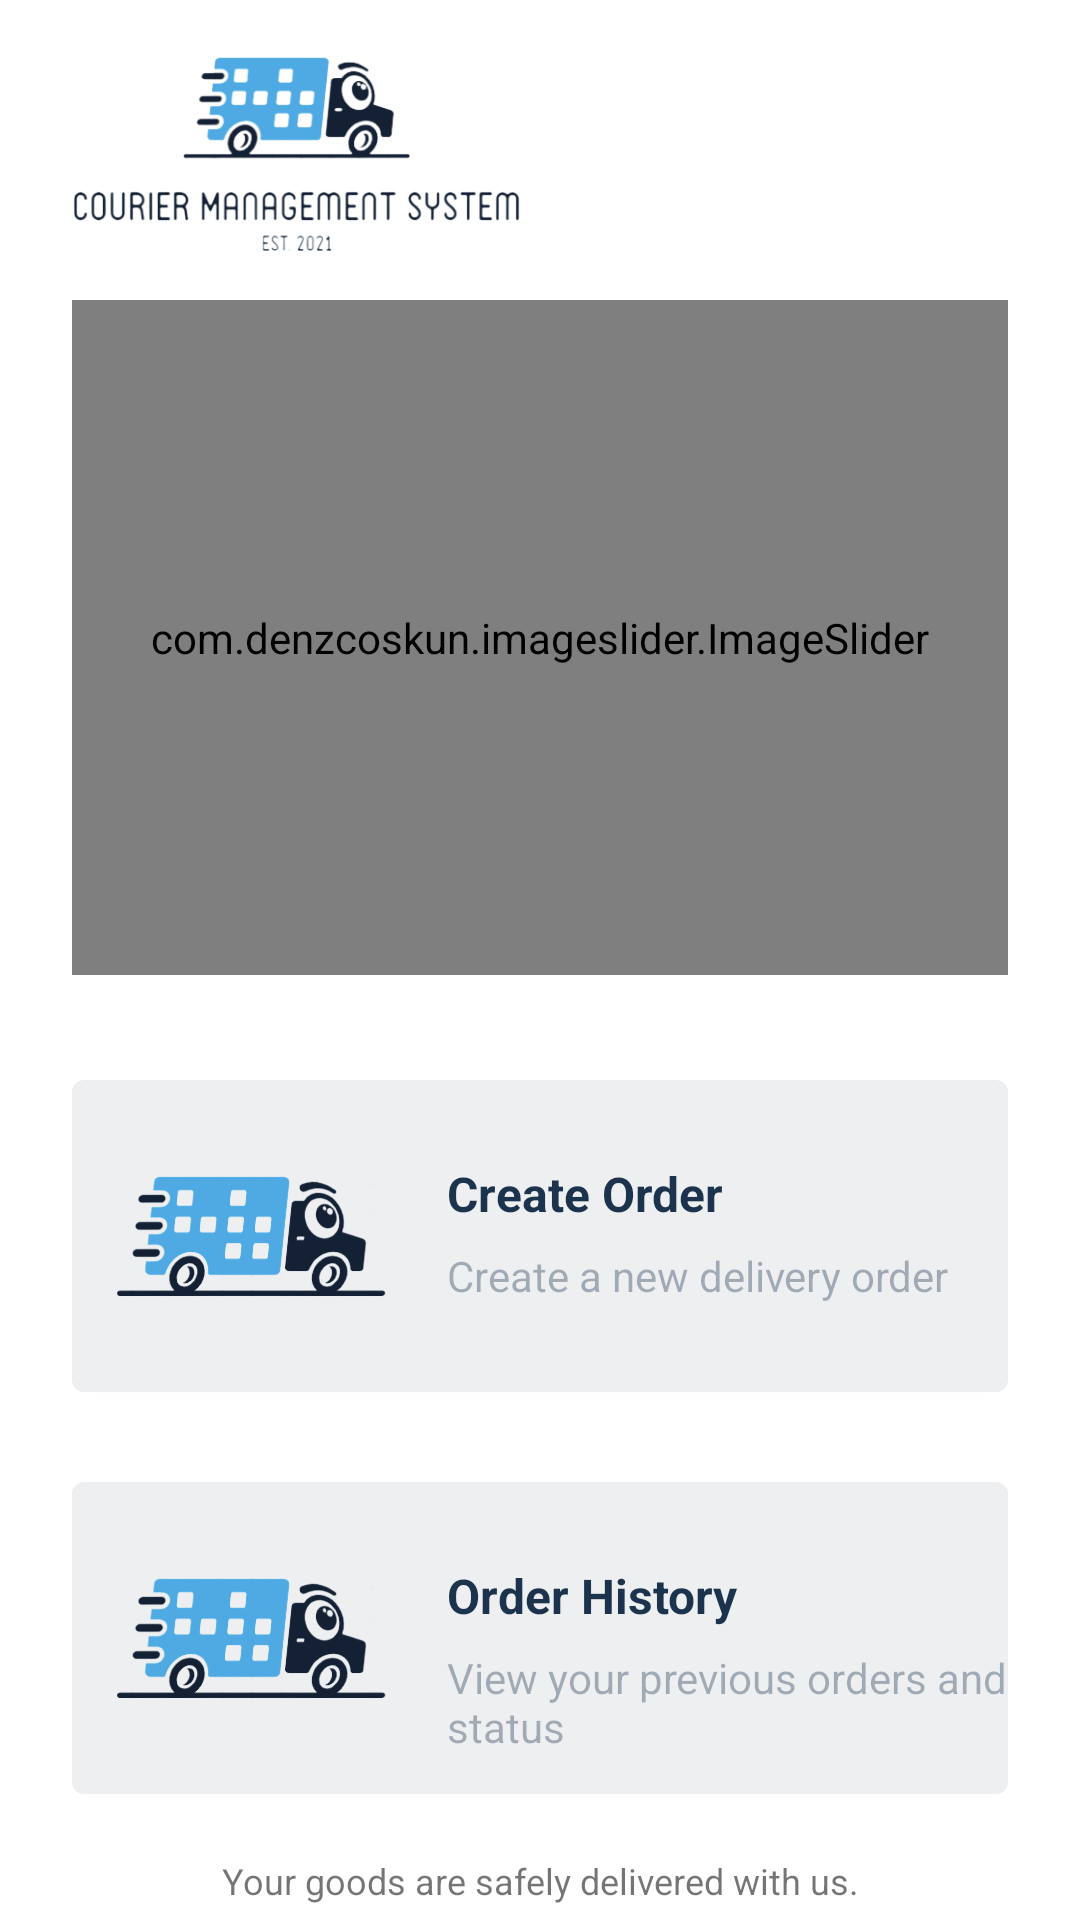

Where icons sit on this 1080 × 1920 app screen, as {"x1": x1, "y1": y1, "x2": x2, "y2": y2}:
truck only: {"x1": 117, "y1": 1176, "x2": 386, "y2": 1296}, {"x1": 117, "y1": 1578, "x2": 386, "y2": 1698}
